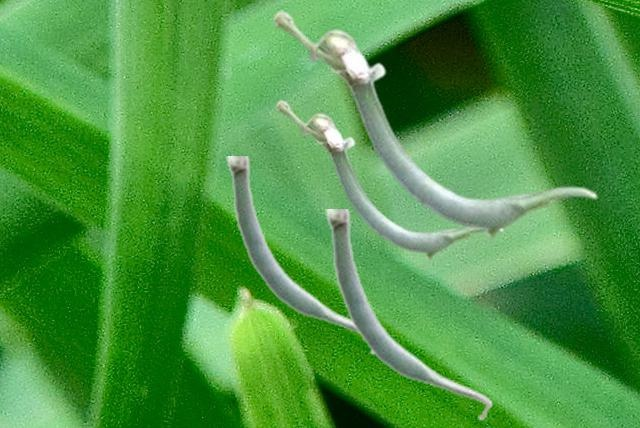french_bean: (272, 9, 597, 238), (275, 99, 503, 259), (325, 209, 492, 421), (226, 156, 373, 355)
